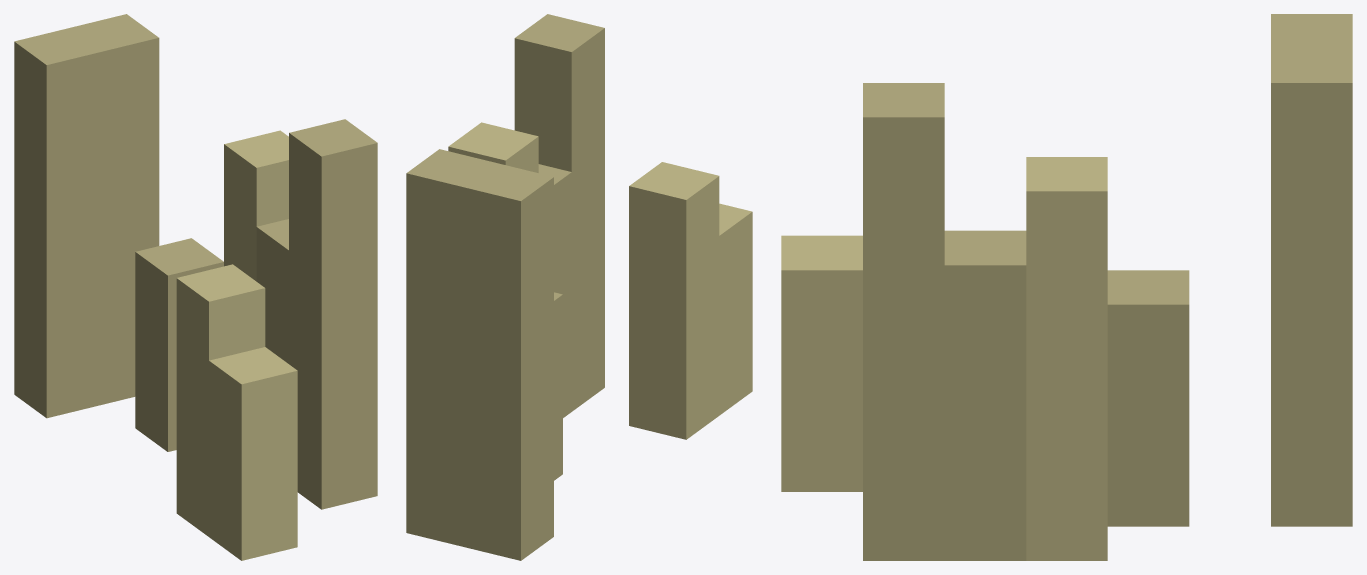
The model's file is hierba_de_estepa_01.glb.
3 renders of one model, left to right at view 1: azimuth 30°, elevation 25°; view 2: azimuth 150°, elevation 25°; view 3: azimuth 270°, elevation 25°, orthographic. The views are drawn at different scales.
Parts seen in each view (by area): view 1: hierba_de_estepa_01; view 2: hierba_de_estepa_01; view 3: hierba_de_estepa_01.
Boxes of the visible parts, x1,y1,x2,y2 form: hierba_de_estepa_01: (14, 14, 377, 560); hierba_de_estepa_01: (406, 14, 752, 560); hierba_de_estepa_01: (781, 14, 1352, 560).
Bounding box in the file's own units: 0.3 × 0.6 × 0.7.
